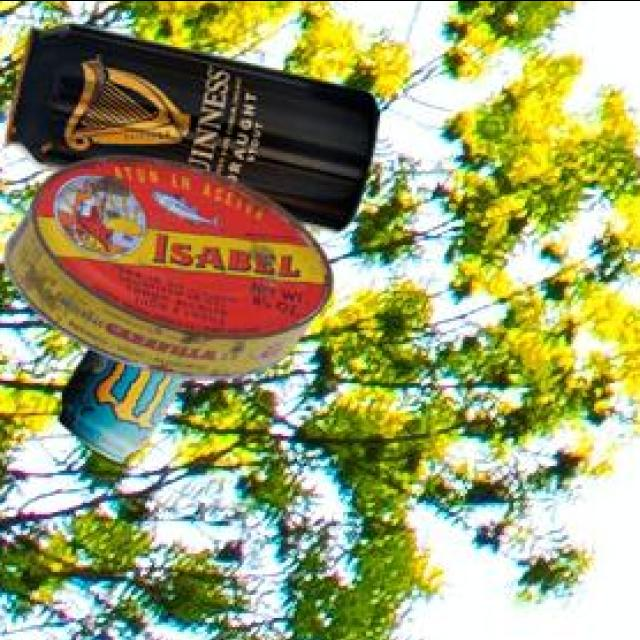logam: (3, 26, 376, 234), (1, 160, 330, 381), (56, 351, 181, 464)
